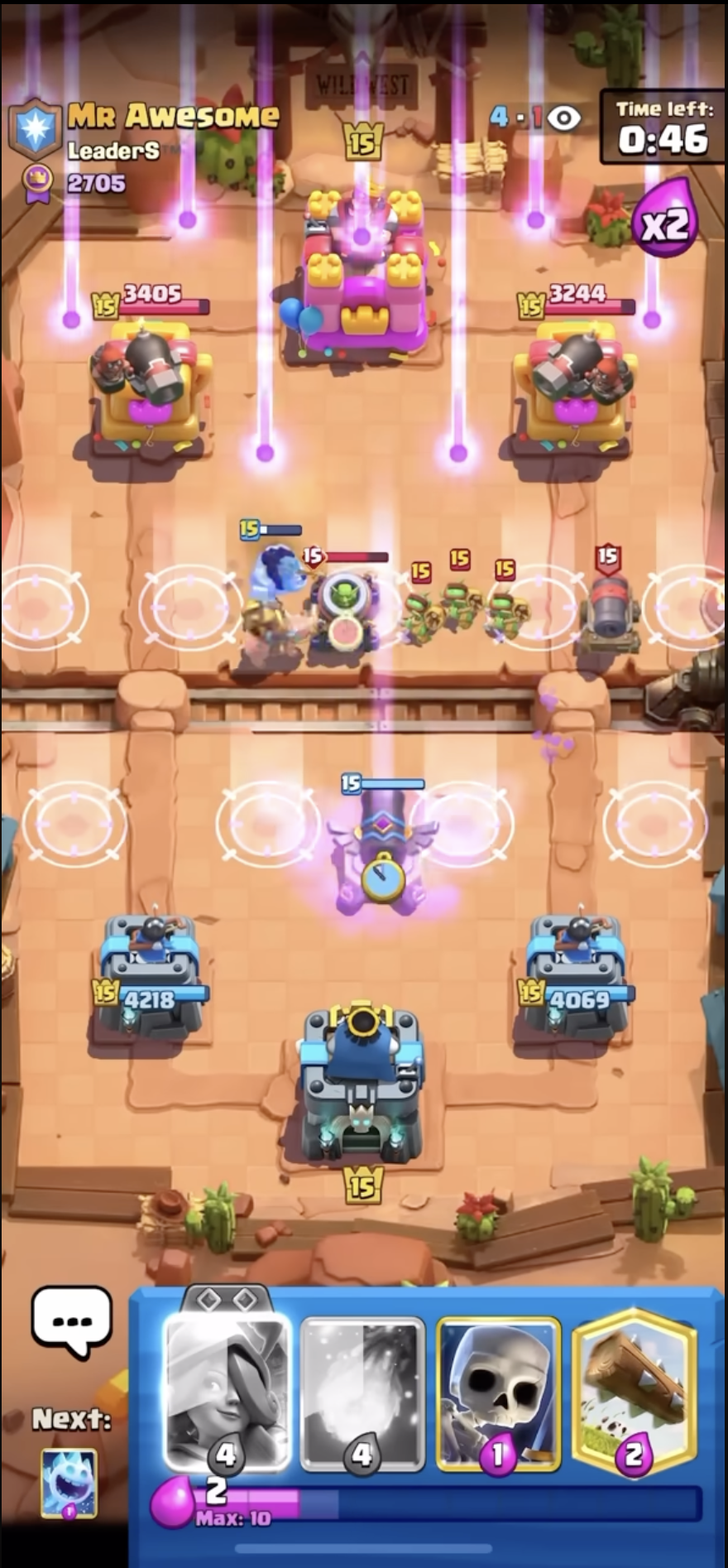evo-cannon: (331, 759, 448, 929)
hog-rider: (229, 571, 305, 702)
ice-golem: (234, 502, 318, 626)
